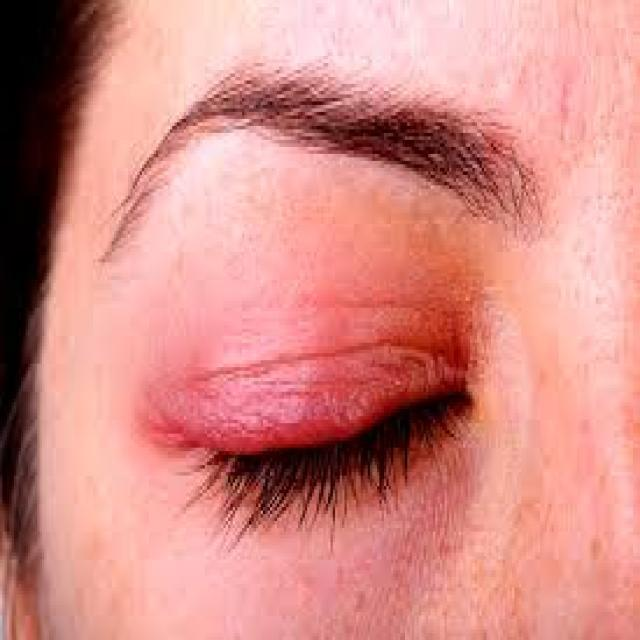Rosacea: (159, 276, 458, 450)
